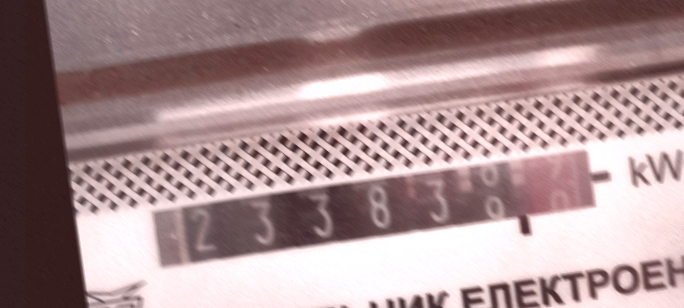0: (546, 185, 572, 214)
2: (187, 204, 218, 254)
3: (244, 195, 279, 247), (302, 188, 337, 240), (421, 174, 451, 223)
8: (361, 181, 394, 230), (475, 159, 502, 189)
9: (481, 191, 506, 223), (541, 149, 566, 181)
screen: (138, 135, 618, 290)
